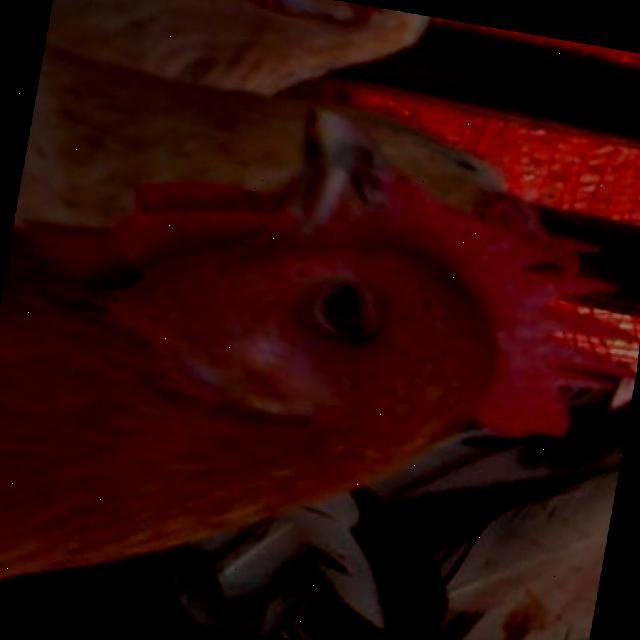Coryza: (264, 226, 424, 382)
